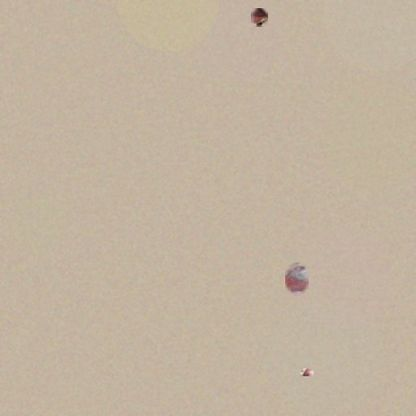rotten: (285, 262, 309, 296)
sprouted: (251, 8, 268, 27), (300, 368, 314, 376)
